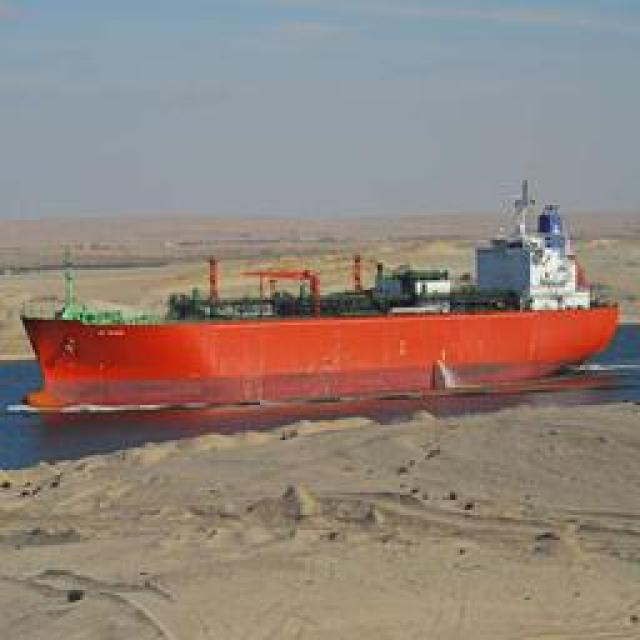ship2: (20, 179, 619, 412)
